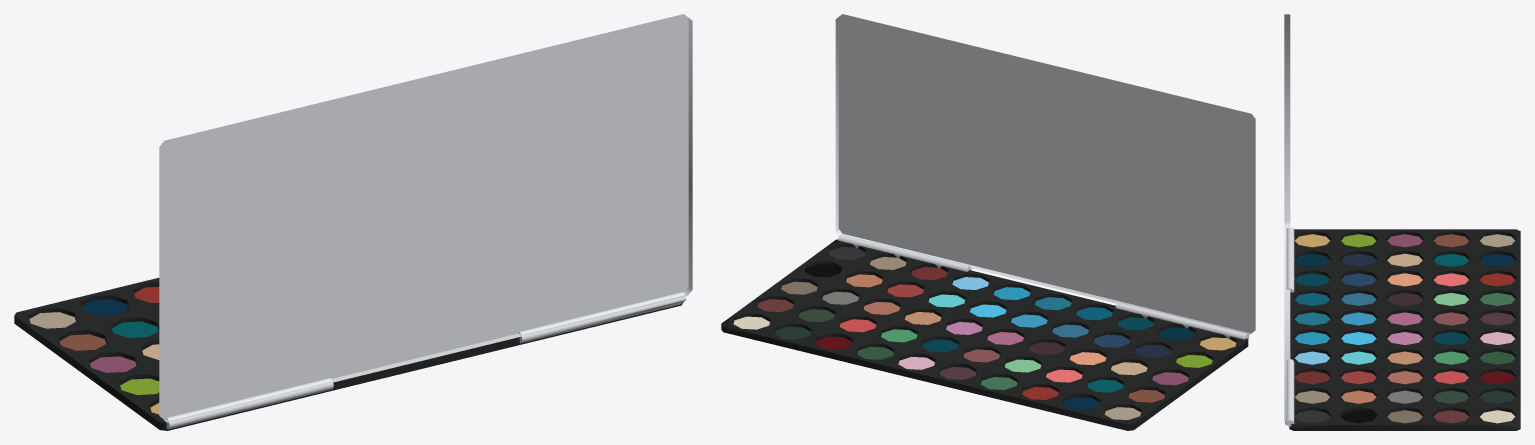
Rendered from make_up_pallete_open.glb.
3 renders of one model, left to right at view 1: azimuth 30°, elevation 25°; view 2: azimuth 150°, elevation 25°; view 3: azimuth 270°, elevation 25°, orthographic. The views are drawn at different scales.
Visible parts, largest first — view 1: make up_pallete_open.007; view 2: make up_pallete_open.007; view 3: make up_pallete_open.007.
Boxes of the visible parts, <box> form: make up_pallete_open.007: <box>14,14,692,430</box>; make up_pallete_open.007: <box>721,14,1255,430</box>; make up_pallete_open.007: <box>1284,14,1520,430</box>.
Size of the model in its own units: 46.43 by 24.34 by 23.48.
Materials: 2 (2 with a texture image).
